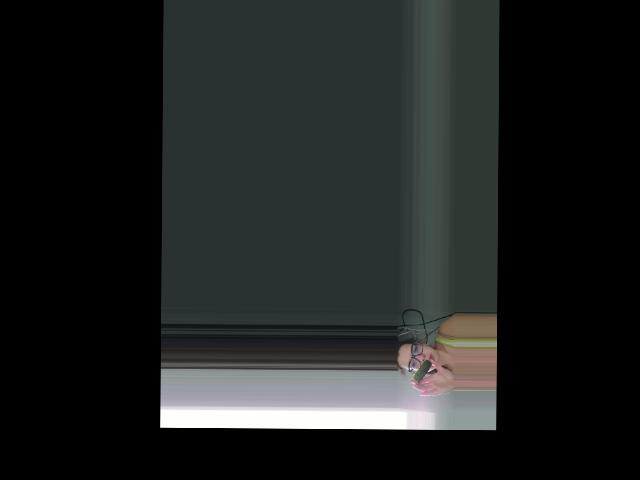cucumber: (412, 359, 431, 381)
